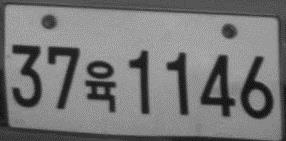1: (166, 49, 189, 118), (128, 47, 150, 117)
3: (9, 43, 43, 107)
4: (199, 52, 237, 118)
6: (239, 54, 273, 120)
7: (46, 45, 81, 110)
육: (83, 58, 118, 113)
